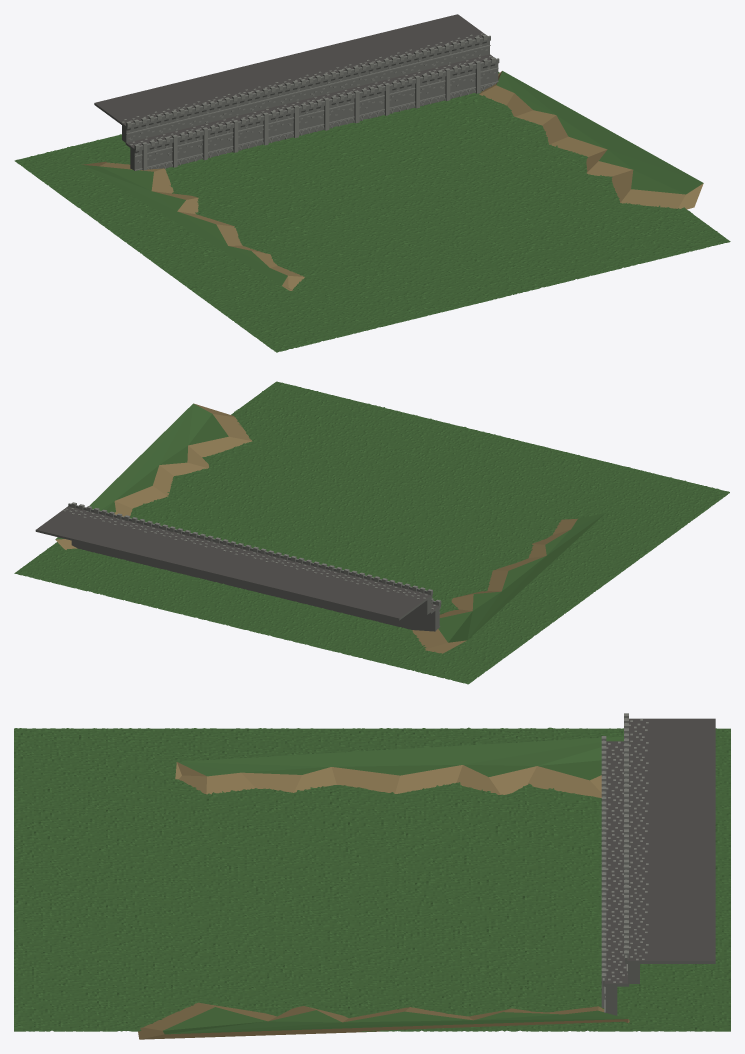
Rendered from wall.fbx.
3 renders of one model, top to bottom at view 1: azimuth 30°, elevation 25°; view 2: azimuth 150°, elevation 25°; view 3: azimuth 270°, elevation 25°, orthographic. The views are drawn at different scales.
Parts seen in each view (by area): view 1: Grid, Cube.001, Plane, Cube; view 2: Grid, Cube.001, Plane, Cube; view 3: Grid, Plane, Cube.001, Cube.
Part boxes in pixels (x1,y1,x2,y2): Grid: (14,72,730,352); Cube.001: (94,14,490,142); Plane: (82,71,703,290); Cube: (125,54,499,170); Grid: (14,381,729,684); Cube.001: (35,502,432,620); Plane: (55,403,605,653); Cube: (71,540,441,631); Grid: (14,727,730,1031); Plane: (138,736,629,1039); Cube.001: (624,713,715,983); Cube: (601,736,629,1015).
Bounding box in the file's own units: 12738 × 1349 × 12000.
